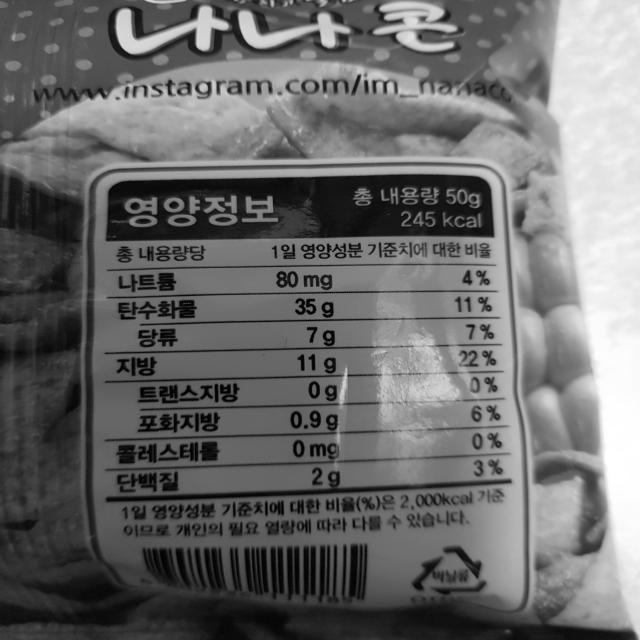Nutrition Label: (93, 168, 517, 509)
